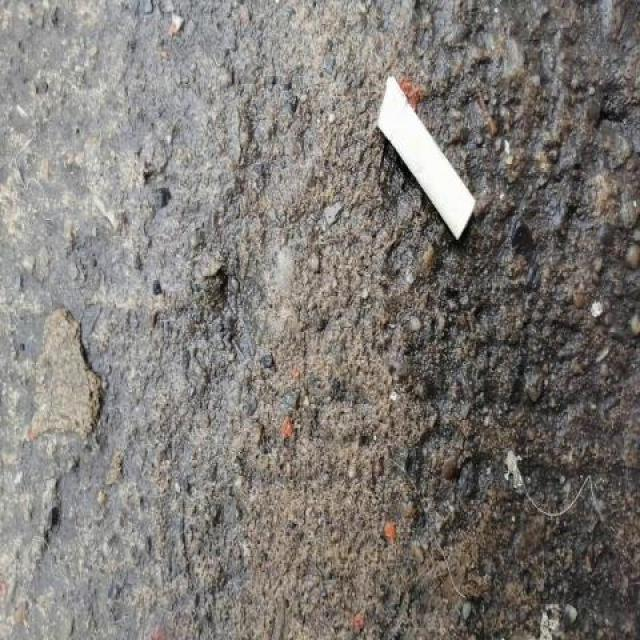non-organic waste: (372, 70, 480, 246)
